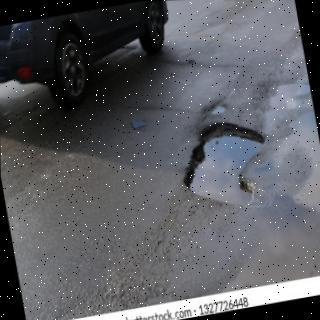pothole: (183, 124, 265, 207)
